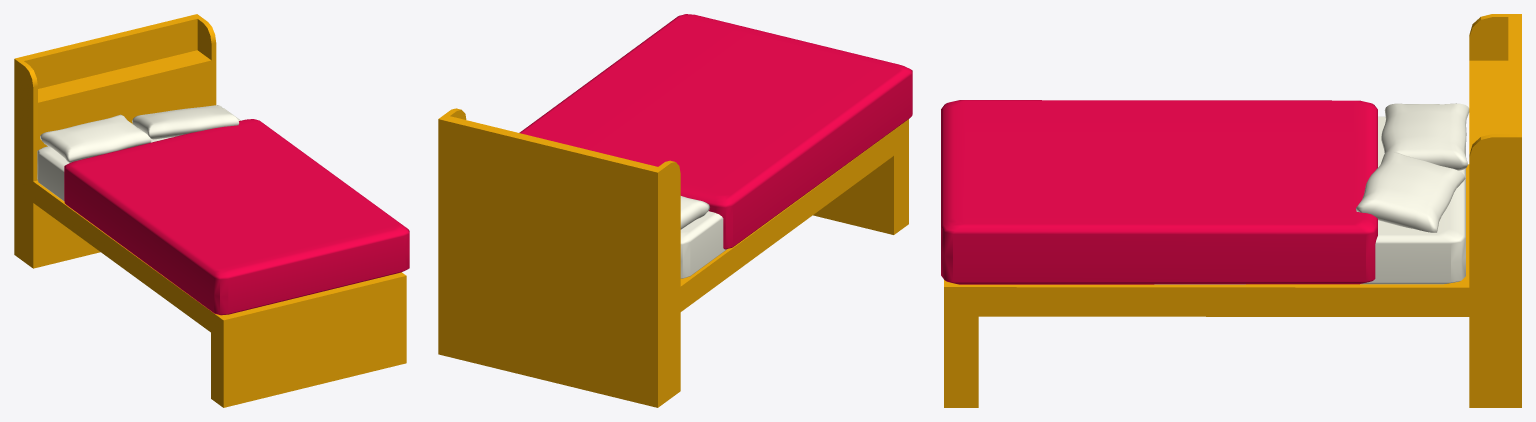
The model's file is MotherBed.fbx.
3 views of the same model, side by side, from view 1: azimuth 30°, elevation 25°; view 2: azimuth 150°, elevation 25°; view 3: azimuth 270°, elevation 25° (orthographic). The views are drawn at different scales.
Parts seen in each view (by area): view 1: pCube290, pCube111, pCube112, pCube113, Pillow1, Pillow, pCube117, pCube289; view 2: pCube112, pCube290, pCube111, pCube113, pCube117, pCube289, Pillow1; view 3: pCube290, pCube111, pCube289, pCube117, Pillow, Pillow1, pCube112, pCube113.
Boxes of the visible parts, x1,y1,x2,y2 form: pCube290: [64, 119, 409, 315]; pCube111: [33, 180, 406, 407]; pCube112: [19, 15, 211, 267]; pCube113: [14, 57, 37, 268]; Pillow1: [40, 114, 151, 162]; Pillow: [132, 105, 238, 139]; pCube117: [37, 108, 240, 201]; pCube289: [193, 14, 216, 105]; pCube112: [444, 116, 657, 406]; pCube290: [519, 14, 912, 249]; pCube111: [680, 119, 908, 311]; pCube113: [652, 160, 680, 407]; pCube117: [680, 211, 726, 278]; pCube289: [438, 108, 466, 355]; Pillow1: [680, 196, 709, 229]; pCube290: [941, 100, 1377, 284]; pCube111: [944, 164, 1469, 407]; pCube289: [1469, 134, 1521, 407]; pCube117: [1154, 116, 1465, 284]; Pillow: [1356, 151, 1465, 232]; Pillow1: [1381, 103, 1469, 170]; pCube112: [1469, 17, 1521, 154]; pCube113: [1469, 14, 1521, 60].
Size of the model in its own units: 135 by 129 by 251.
